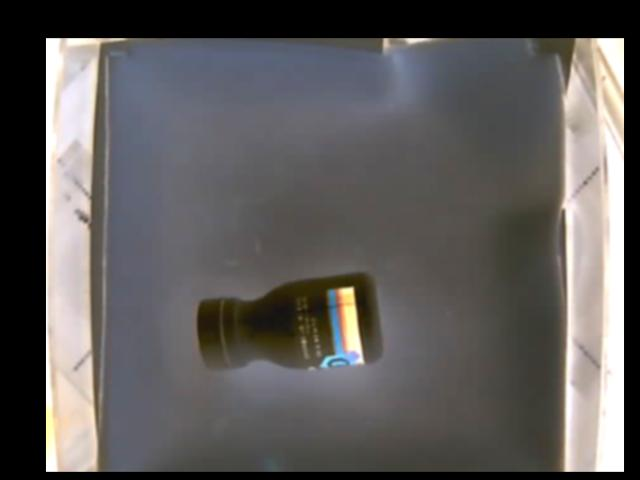Bottle: (192, 272, 385, 372)
